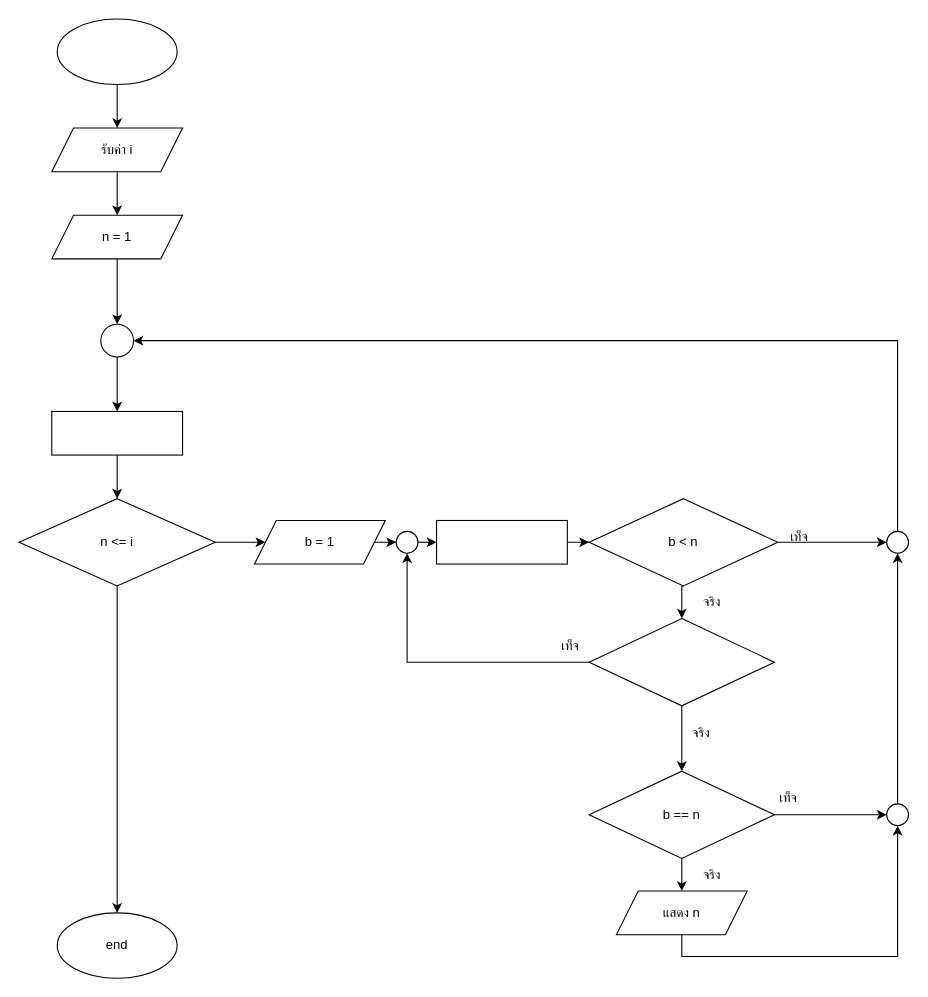
Image size: 928x997. Some labels were removed from this diagram. The centre of each missing label's shape, as x and y in pixels:
b % n == 0: pixel 681 661
b ++: pixel 501 541
n ++: pixel 117 432
start: pixel 116 51
